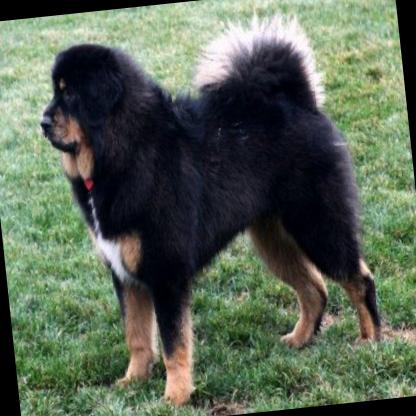Tibetan_mastiff: (29, 13, 387, 416)
